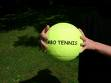tennis ball: (46, 23, 83, 61)
